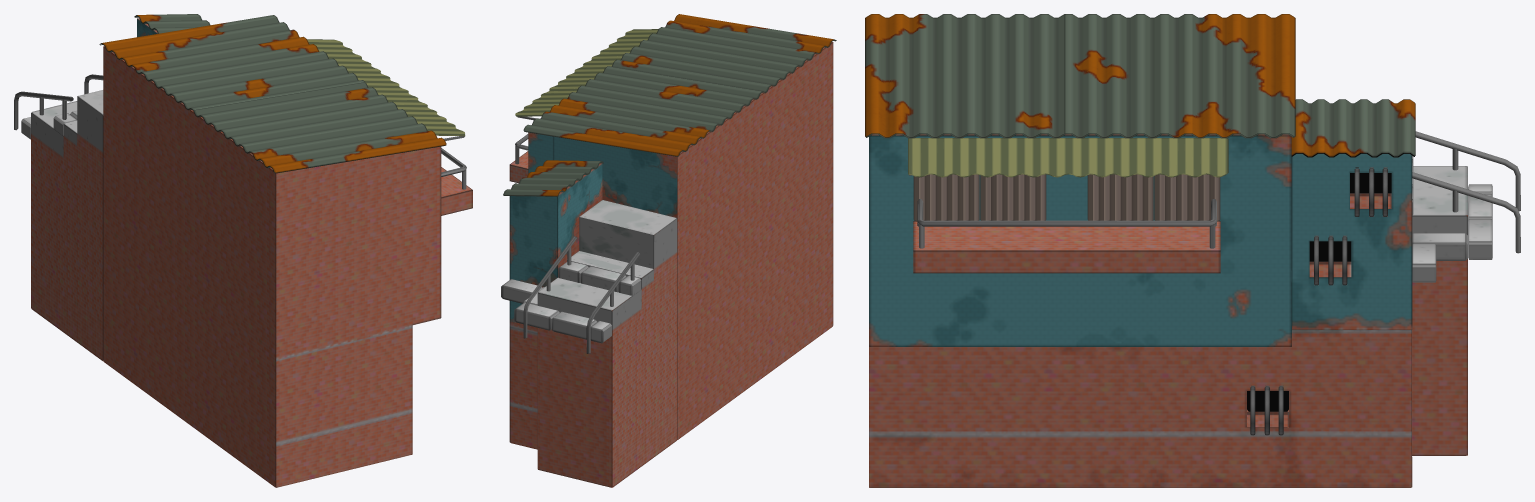
The model's file is Building_Casa_Escalera.fbx.
3 renders of one model, left to right at view 1: azimuth 30°, elevation 25°; view 2: azimuth 150°, elevation 25°; view 3: azimuth 270°, elevation 25°, orthographic. The views are drawn at different scales.
Visible parts, largest first — view 1: Cylinder.004; view 2: Cylinder.004; view 3: Cylinder.004.
Boxes of the visible parts, box(x1,y1,x2,y2) form: Cylinder.004: box(14, 14, 472, 487); Cylinder.004: box(501, 14, 836, 487); Cylinder.004: box(865, 14, 1520, 487).
Size of the model in its own units: 12.31 by 17.26 by 26.24.
